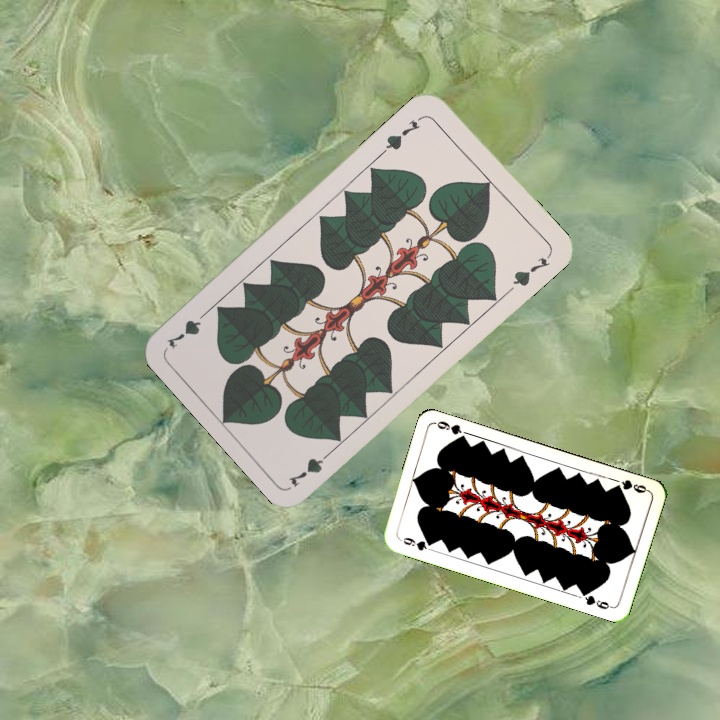G7: (284, 445, 337, 490), (379, 111, 427, 156)
G9: (610, 476, 651, 496), (395, 533, 436, 553)
